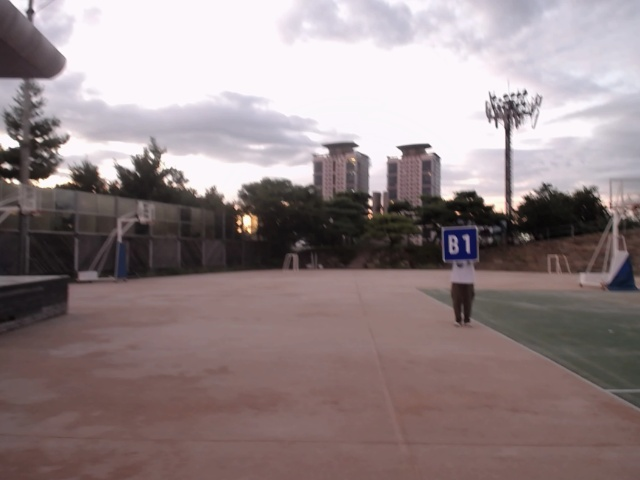delivery_b1: (442, 227, 479, 261)
